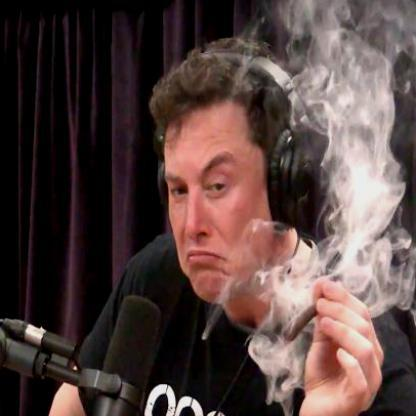cigarette: (282, 309, 316, 344)
person: (140, 38, 306, 415)
smoke: (285, 0, 415, 313), (250, 336, 305, 404), (254, 254, 312, 312)
